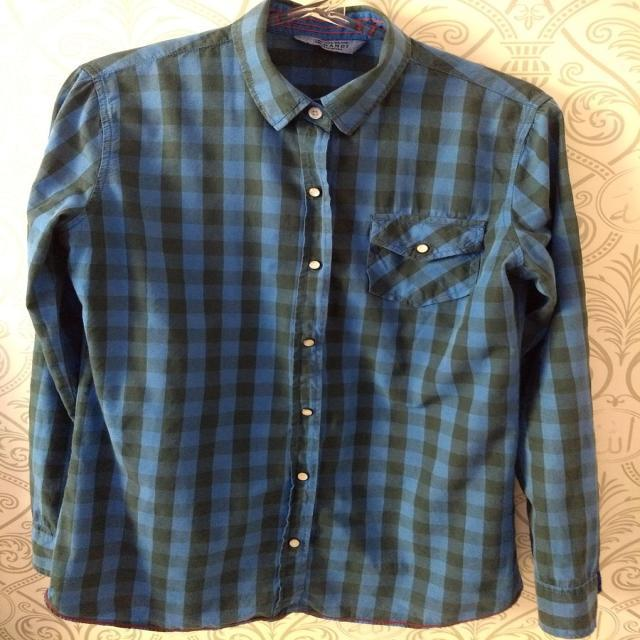long sleeve shirt: (18, 0, 603, 637)
